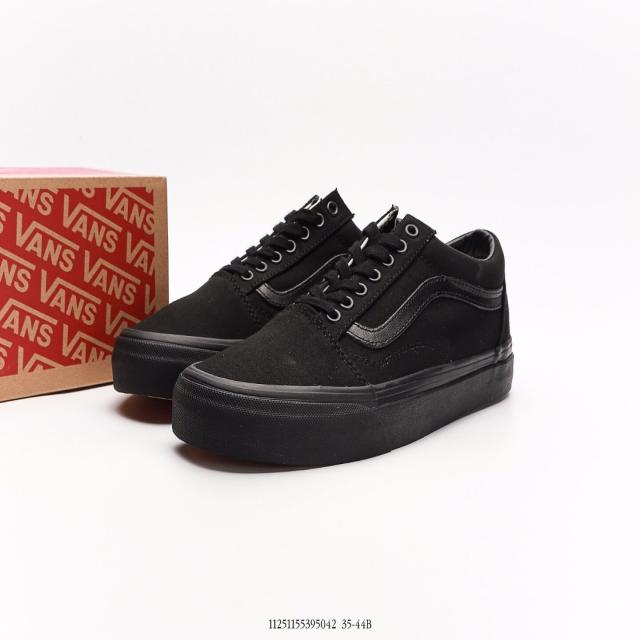shoe: (103, 187, 516, 470), (168, 204, 526, 469)
